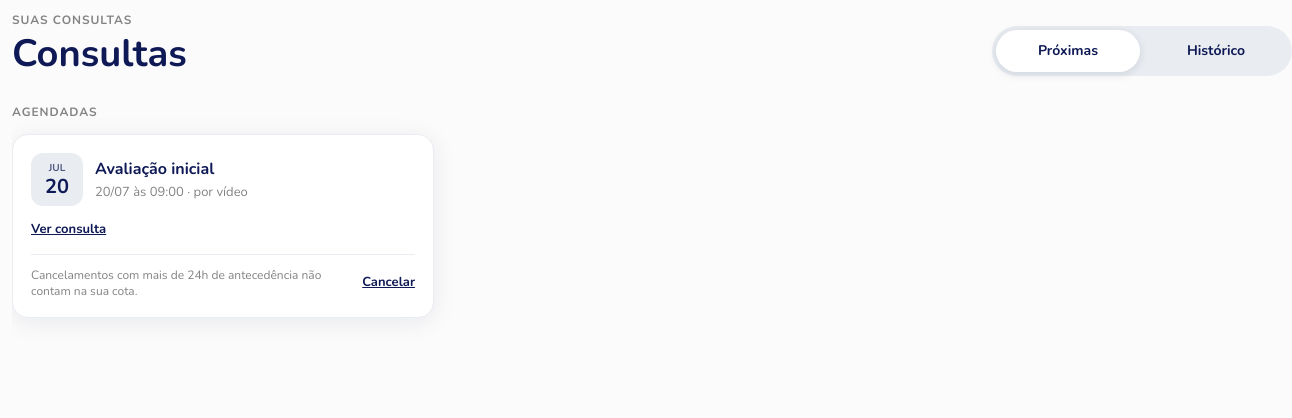
Test: ConsultationsPage › traduz o 409 de consulta não cancelável
Click the button "Cancelar" at (389, 283), box [362,273,415,292]
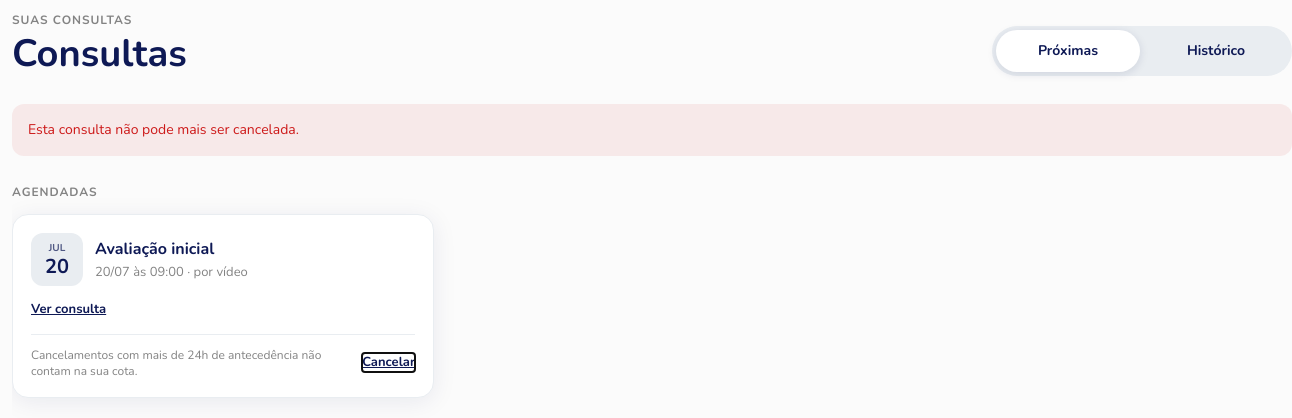
Check: the message shows "não pode mais ser cancelada", box [28,120,299,139]
